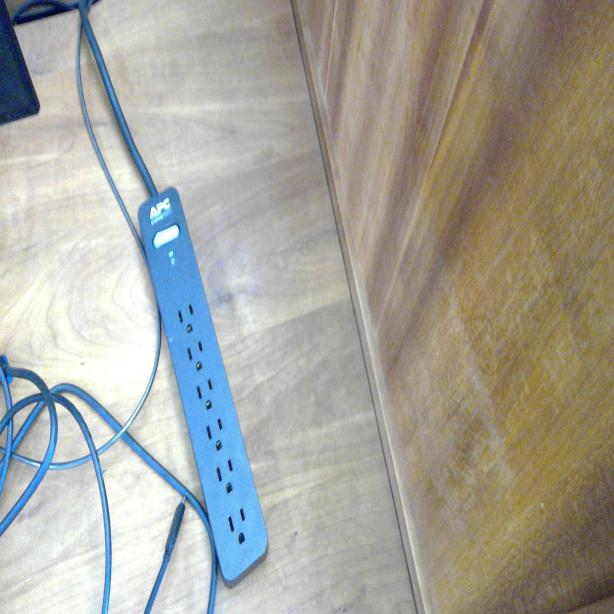typeb: (224, 502, 252, 550), (214, 457, 238, 498), (193, 376, 218, 413), (175, 298, 199, 336), (185, 337, 208, 376), (204, 416, 228, 453)
